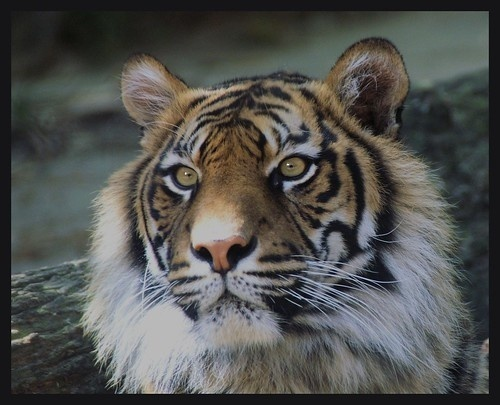tigre: (83, 48, 476, 393)
